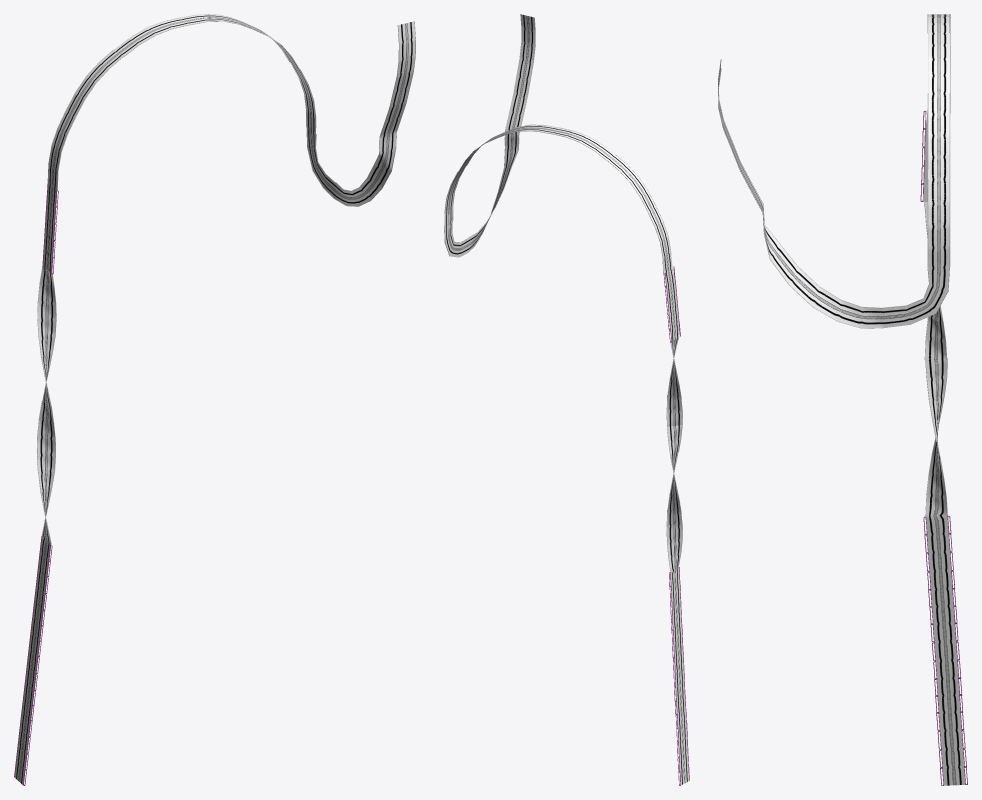
File: Track 5.Smoothfbx.fbx
3 renders of one model, left to right at view 1: azimuth 30°, elevation 25°; view 2: azimuth 150°, elevation 25°; view 3: azimuth 270°, elevation 25°, orthographic. The views are drawn at different scales.
Parts seen in each view (by area): view 1: polySurface1, polySurface2; view 2: polySurface1, polySurface2; view 3: polySurface1, polySurface2.
Boxes of the visible parts, left/top/right/bottom form: polySurface1: left=14, top=14, right=415, bottom=784; polySurface2: left=14, top=14, right=415, bottom=785; polySurface1: left=445, top=14, right=688, bottom=785; polySurface2: left=444, top=14, right=689, bottom=785; polySurface1: left=718, top=14, right=965, bottom=785; polySurface2: left=718, top=14, right=967, bottom=785.
Size of the model in its own units: 54341 by 134036 by 34344.
